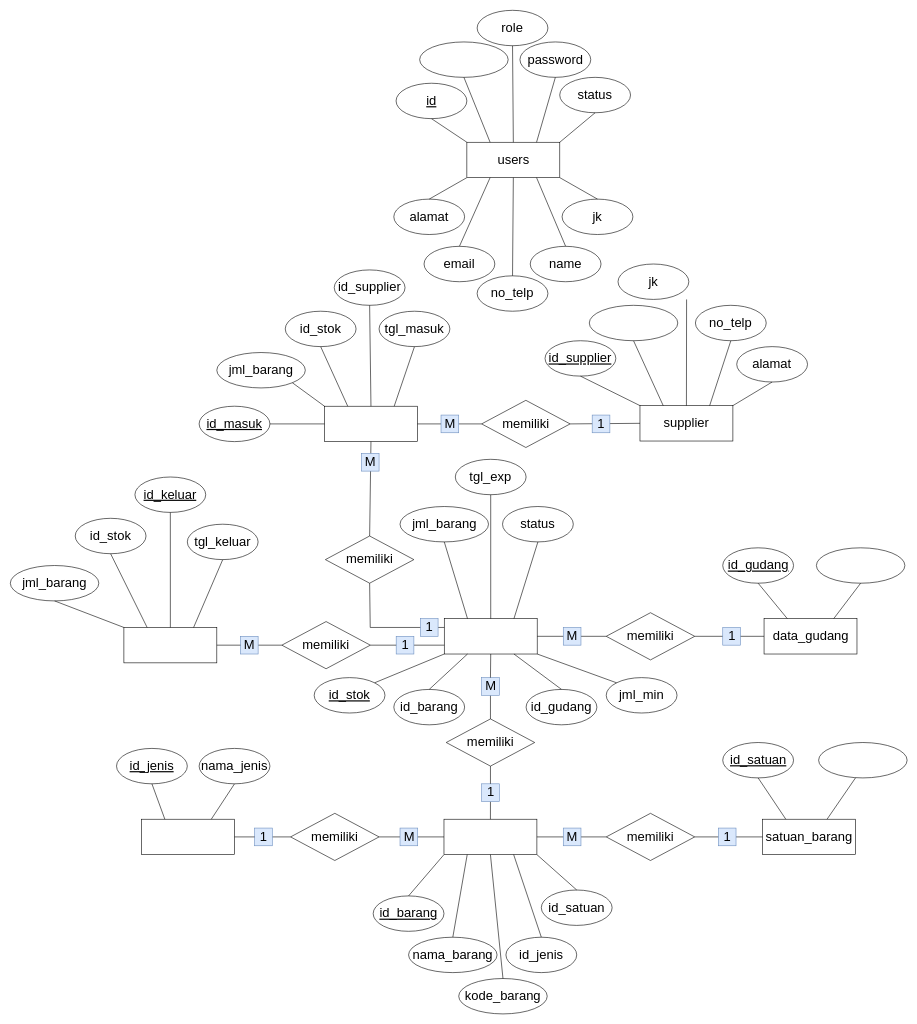
The diagram is 917 pixels wide and 1024 high, and some of its shapes have lost their labels. The centre of each missing label's shape, as x and y in pixels:
"barang_keluar" belongs at point 170,645.
"barang_masuk" belongs at point 370,424.
"data_barang" belongs at point 490,837.
"exp_reminder" belongs at point 463,59.
"jenis_barang" belongs at point 188,837.
"nama_gudang" belongs at point 860,565.
"nama_satuan" belongs at point 862,760.
"nama_supplier" belongs at point 633,323.
"stok_barang" belongs at point 490,636.
